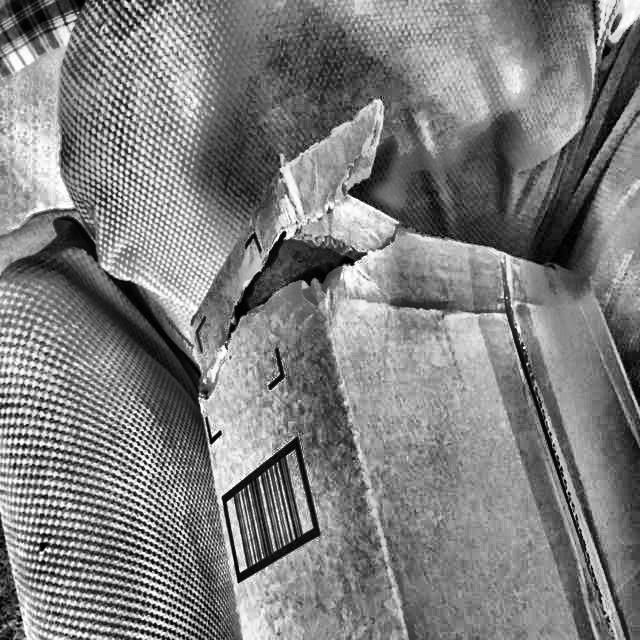box: (180, 83, 639, 639)
hole: (233, 239, 383, 323)
